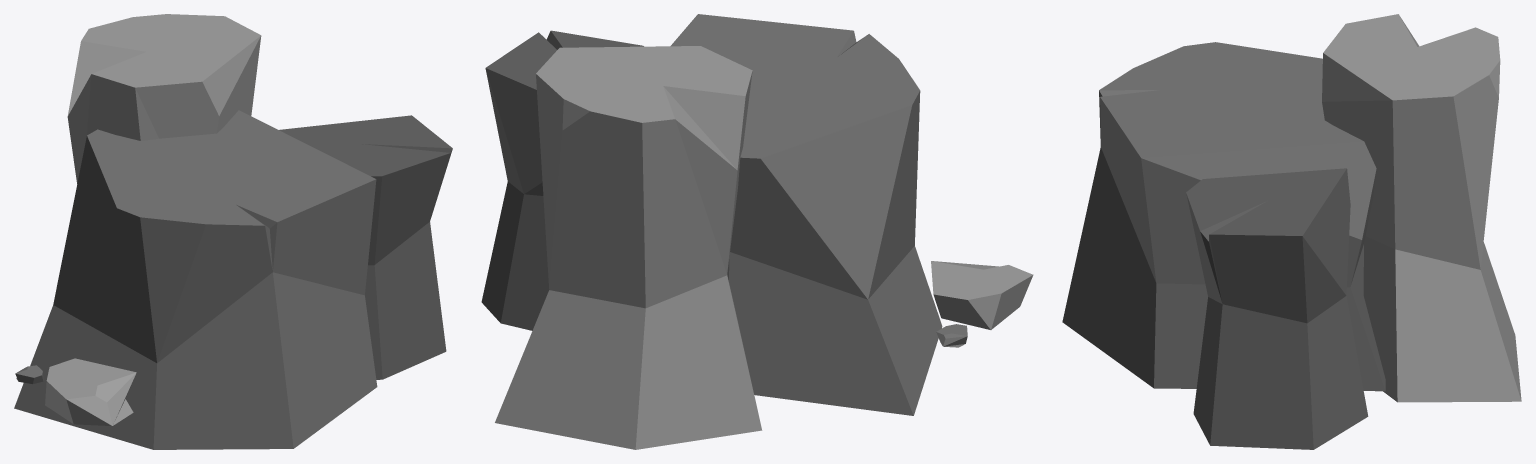
Rendered from stones_025.glb.
3 renders of one model, left to right at view 1: azimuth 30°, elevation 25°; view 2: azimuth 150°, elevation 25°; view 3: azimuth 270°, elevation 25°, orthographic. The views are drawn at different scales.
Visible parts, largest first — view 1: stones_025; view 2: stones_025; view 3: stones_025.
Boxes of the visible parts, <box> form: stones_025: <box>14,14,452,449</box>; stones_025: <box>481,14,1033,449</box>; stones_025: <box>1062,14,1521,449</box>.
Bounding box in the file's own units: 13.2 × 8.7 × 11.94.
1 material, 1 textured.
